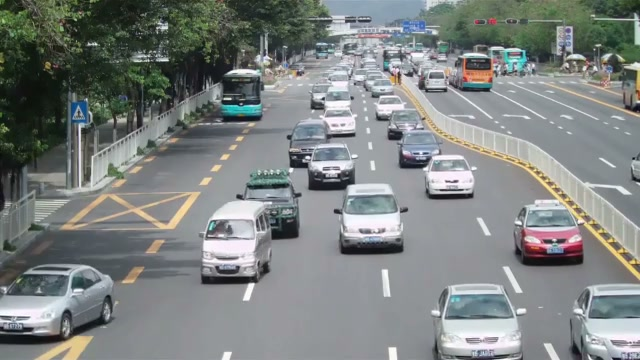bus: (221, 69, 264, 121), (451, 52, 494, 91)
car: (0, 263, 117, 341), (430, 283, 527, 360), (200, 199, 273, 283), (569, 283, 640, 360), (333, 183, 408, 254), (512, 199, 585, 266), (239, 169, 302, 238), (422, 153, 476, 199), (307, 142, 357, 189), (288, 118, 330, 167), (397, 130, 442, 168), (386, 109, 425, 140), (322, 107, 357, 137), (374, 94, 406, 121), (630, 152, 640, 181)
truck: (452, 52, 494, 92), (486, 46, 527, 76), (620, 62, 640, 112)
